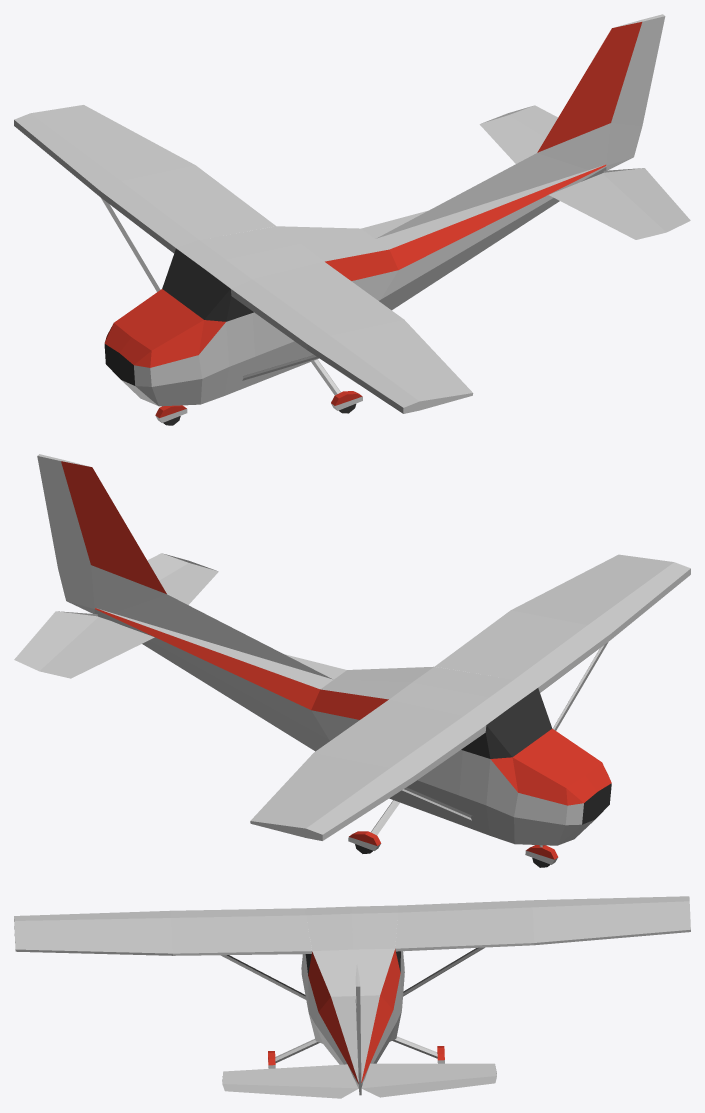
The model's file is fuselage_cube.003_lev2.glb.
The picture shows the model from 3 angles, top to bottom: view 1: azimuth 30°, elevation 25°; view 2: azimuth 150°, elevation 25°; view 3: azimuth 270°, elevation 25°; orthographic projection. The views are drawn at different scales.
Visible parts, largest first — view 1: fuselage_cube.003_lev2; view 2: fuselage_cube.003_lev2; view 3: fuselage_cube.003_lev2.
Boxes of the visible parts, left/top/right/bottom form: fuselage_cube.003_lev2: left=14, top=14, right=690, bottom=425; fuselage_cube.003_lev2: left=14, top=454, right=690, bottom=867; fuselage_cube.003_lev2: left=14, top=896, right=690, bottom=1098.
Bounding box in the file's own units: 17.44 × 8.73 × 20.75.
